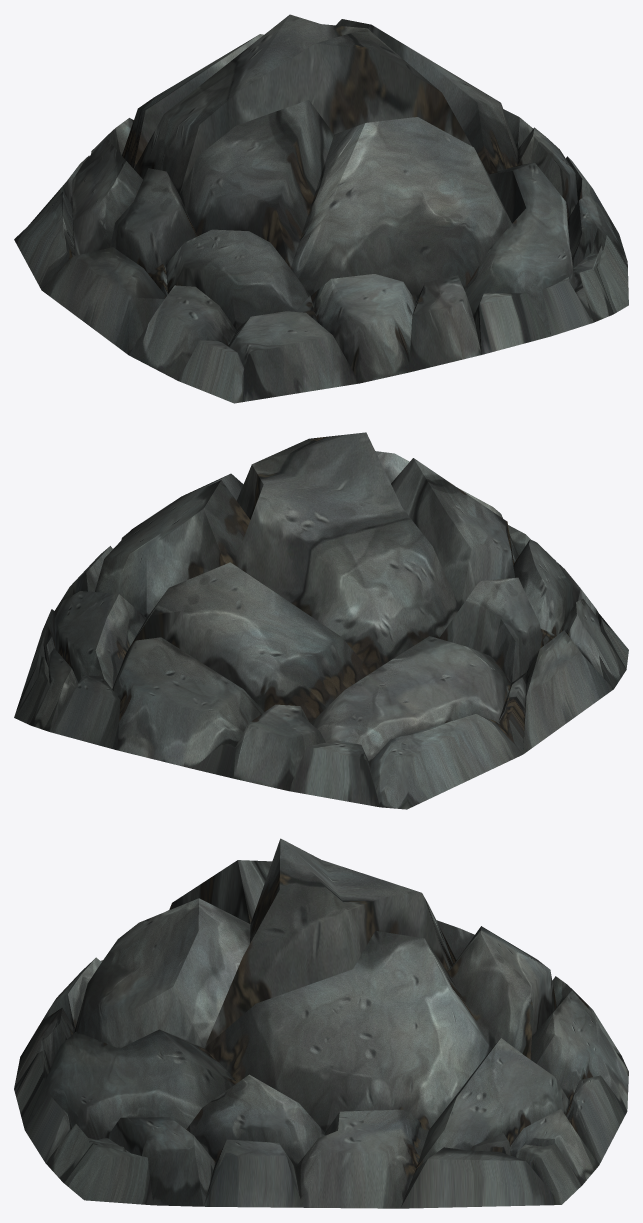
File: RockNugget.obj
3 renders of one model, top to bottom at view 1: azimuth 30°, elevation 25°; view 2: azimuth 150°, elevation 25°; view 3: azimuth 270°, elevation 25°, orthographic. The views are drawn at different scales.
Visible parts, largest first — view 1: Mesh; view 2: Mesh; view 3: Mesh.
Boxes of the visible parts, x1,y1,x2,y2 form: Mesh: (14, 14, 628, 403); Mesh: (14, 432, 628, 809); Mesh: (14, 838, 628, 1208).
Size of the model in its own units: 6.5 by 3.1 by 6.73.
